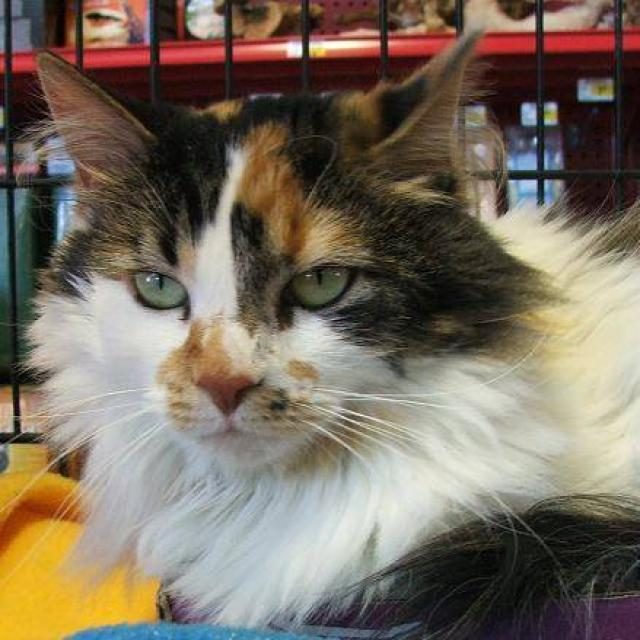cat: (14, 26, 638, 639)
